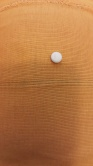Yuvarlak Buskopan: (50, 50, 64, 64)
